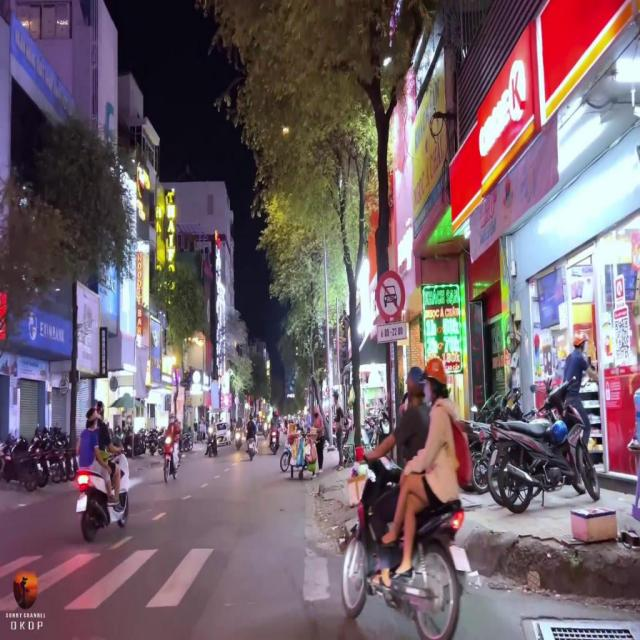cam_o_to: (376, 269, 405, 322)
khac: (378, 323, 407, 341)
